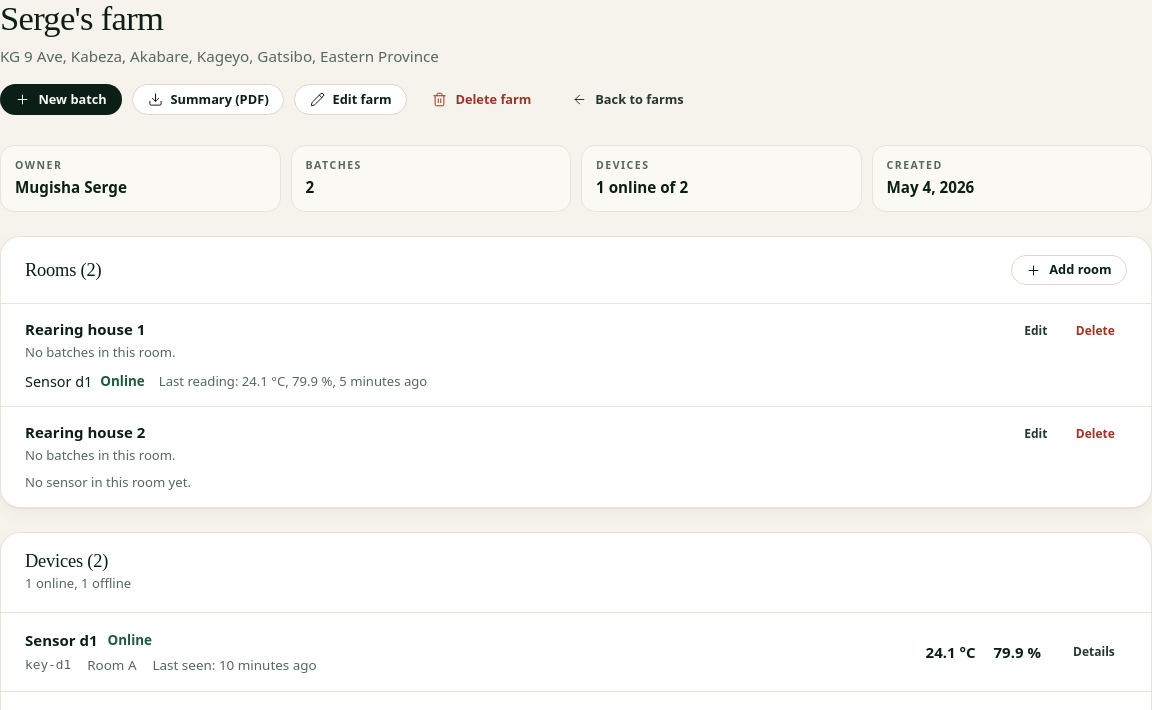
Test: Farm details page › a farm that has a place › opens the editor with the place chosen and the street filled in
Expected: the text "Mugisha Serge" is shown, [15, 177, 127, 197]
Click the button "Edit farm" at (351, 100), box [294, 84, 407, 115]
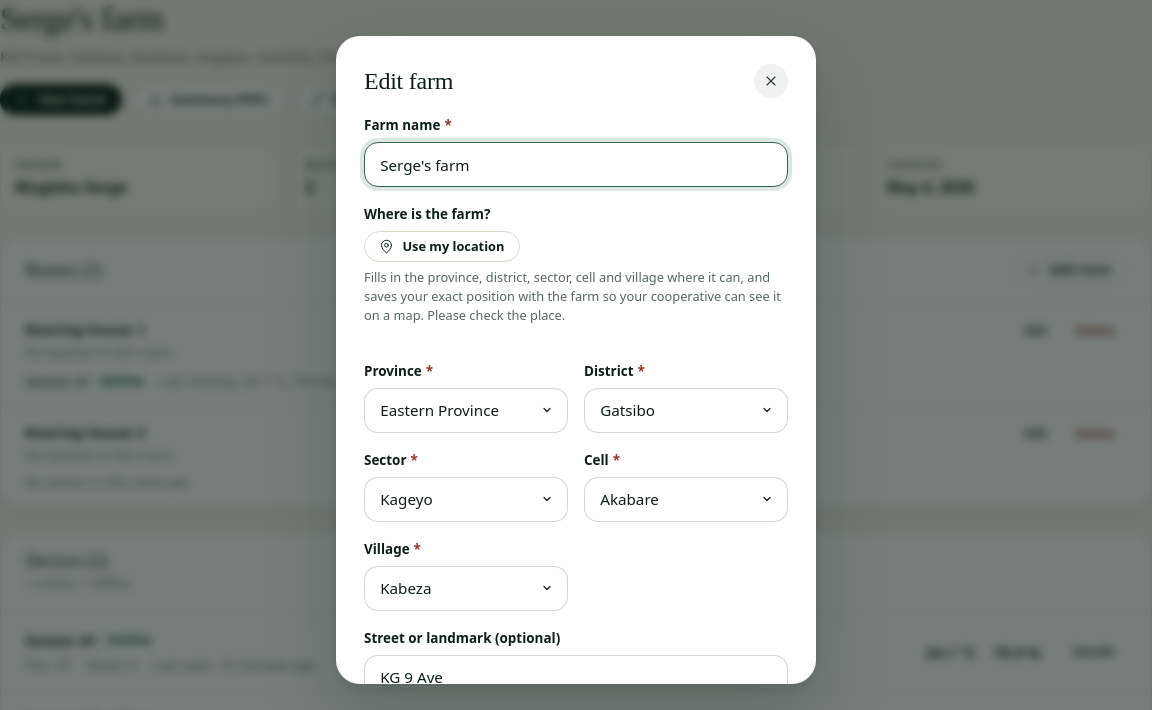
Expected: the dropdown labelled "Village *" shows "Kabeza", [364, 566, 568, 611]
Expected: the dropdown labelled "Province *" shows "Eastern Province", [364, 388, 568, 432]
Expected: the field labelled "Street or landmark (optional)" holds "KG 9 Ave", [364, 655, 788, 684]
